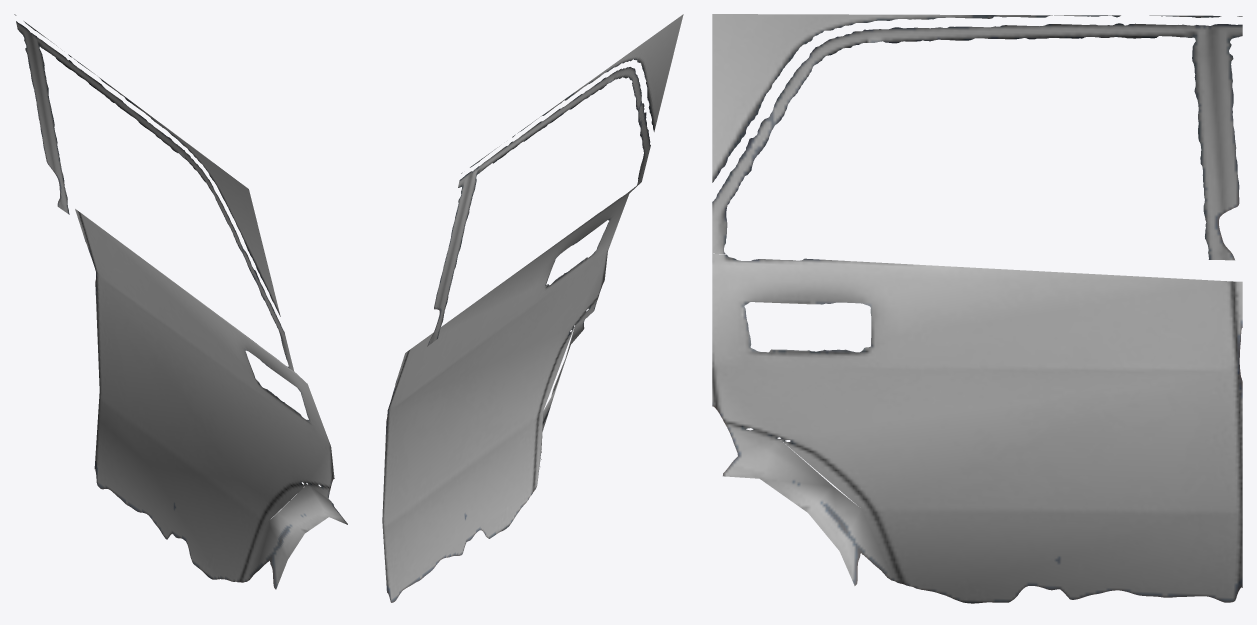
Rendered from SM_AbandonedCar_Door_RR.fbx.
3 views of the same model, side by side, from view 1: azimuth 30°, elevation 25°; view 2: azimuth 150°, elevation 25°; view 3: azimuth 270°, elevation 25° (orthographic). The views are drawn at different scales.
Parts seen in each view (by area): view 1: SM_AbandonedCar_Door_RR; view 2: SM_AbandonedCar_Door_RR; view 3: SM_AbandonedCar_Door_RR.
Part boxes in pixels (x1=…): SM_AbandonedCar_Door_RR: x1=14, y1=14, x2=347, y2=589; SM_AbandonedCar_Door_RR: x1=382, y1=14, x2=683, y2=602; SM_AbandonedCar_Door_RR: x1=712, y1=14, x2=1242, y2=603.
Size of the model in its own units: 22.07 by 99.5 by 87.
1 material, 1 textured.
